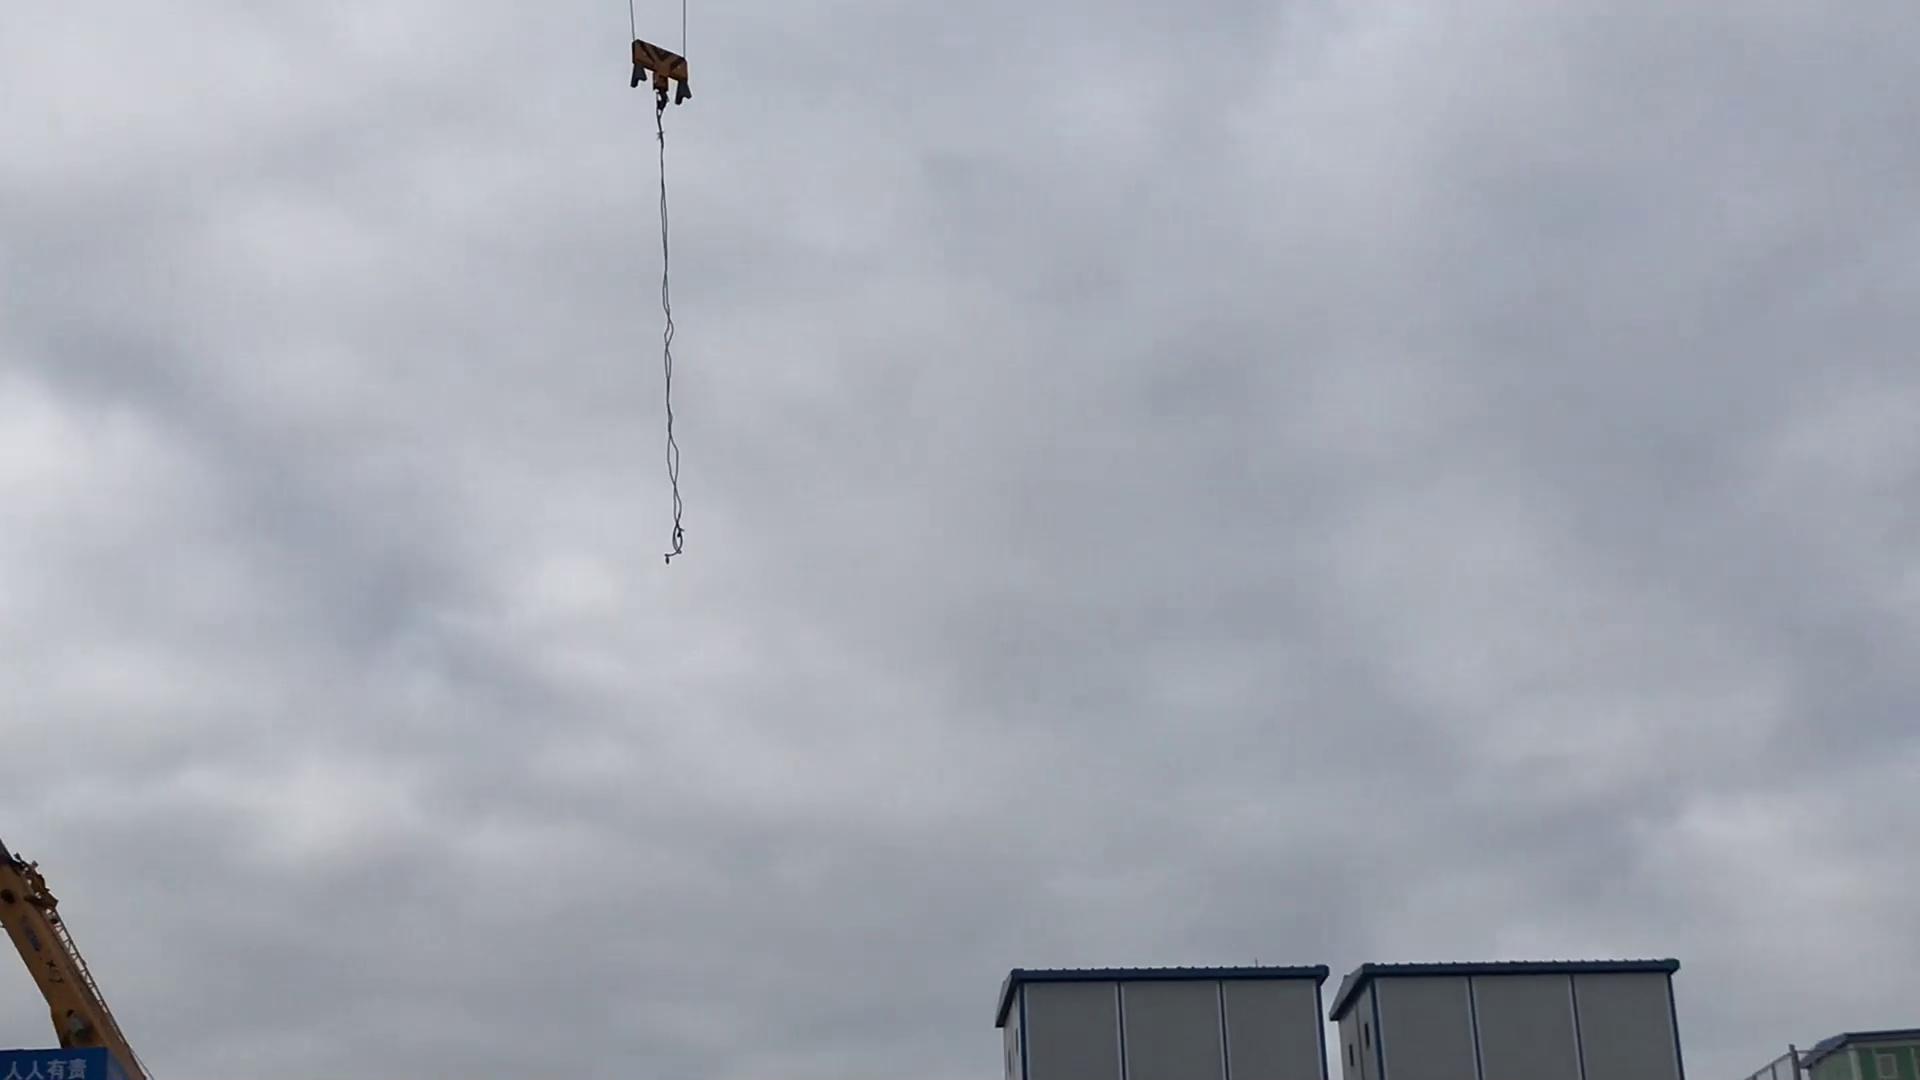hook: (616, 30, 708, 120)
